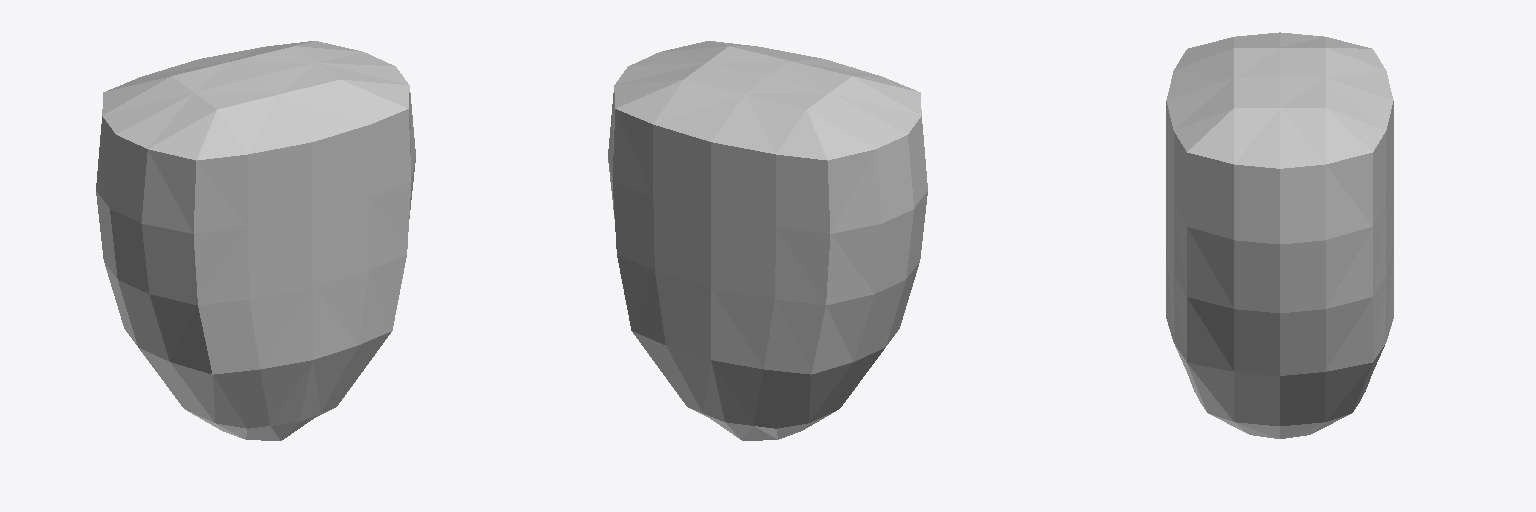
The picture shows the model from 3 angles: view 1: azimuth 30°, elevation 25°; view 2: azimuth 150°, elevation 25°; view 3: azimuth 270°, elevation 25°; orthographic projection.
Visible parts, largest first — view 1: Cube; view 2: Cube; view 3: Cube.
Boxes of the visible parts, x1,y1,x2,y2 form: Cube: [96, 41, 415, 440]; Cube: [608, 41, 927, 440]; Cube: [1166, 32, 1393, 438].
Bounding box in the file's own units: 1.23 × 1.45 × 0.831.
1 materials, 1 textured.